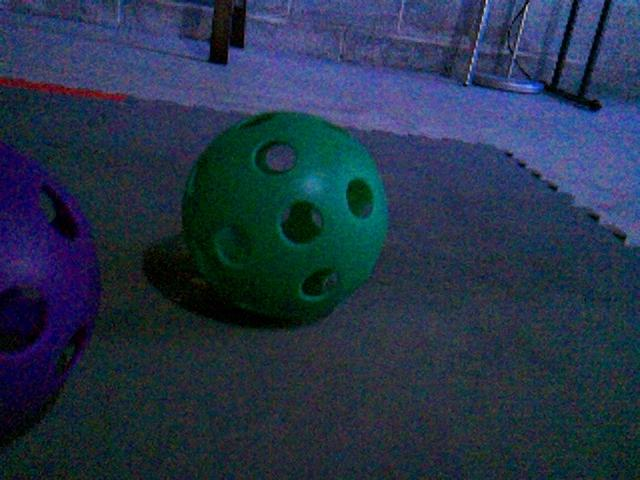Green: (174, 110, 389, 320)
Purple: (1, 138, 103, 451)
